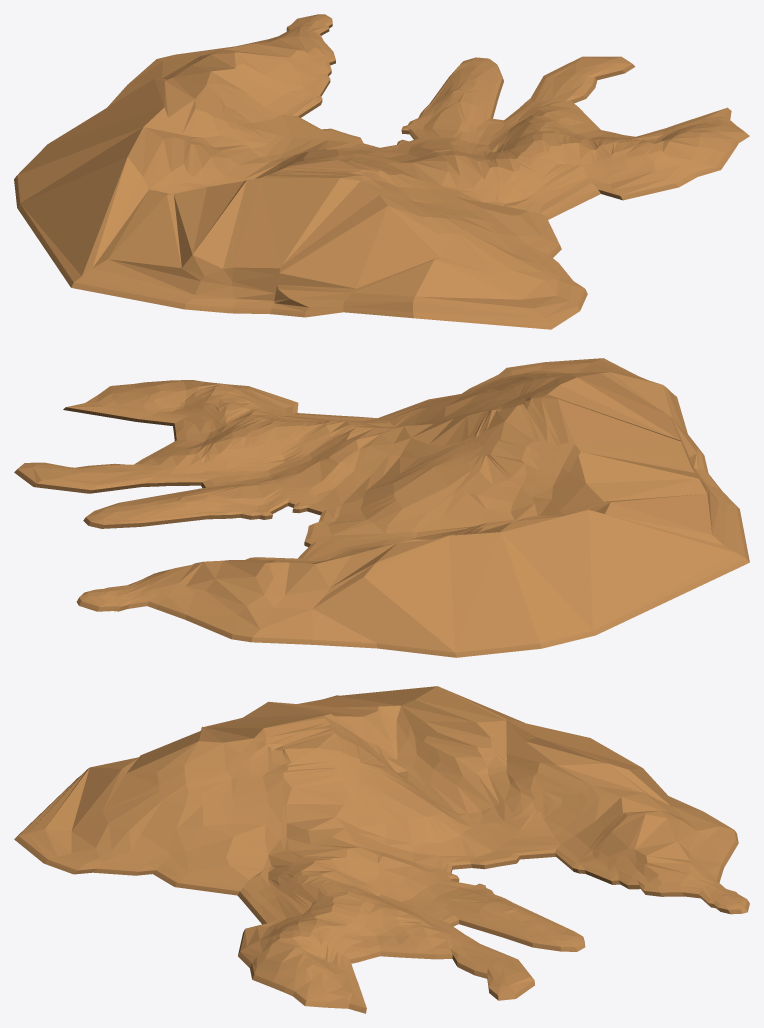
Rendered from costa  triangolarizzata.fbx.
The picture shows the model from 3 angles, top to bottom: view 1: azimuth 30°, elevation 25°; view 2: azimuth 150°, elevation 25°; view 3: azimuth 270°, elevation 25°; orthographic projection. The views are drawn at different scales.
Visible parts, largest first — view 1: Plane.002; view 2: Plane.002; view 3: Plane.002.
Part boxes in pixels (<box>): Plane.002: <box>14,14,749,329</box>; Plane.002: <box>14,358,749,657</box>; Plane.002: <box>14,686,749,1013</box>.
Size of the model in its own units: 390634 by 50646 by 383819.
